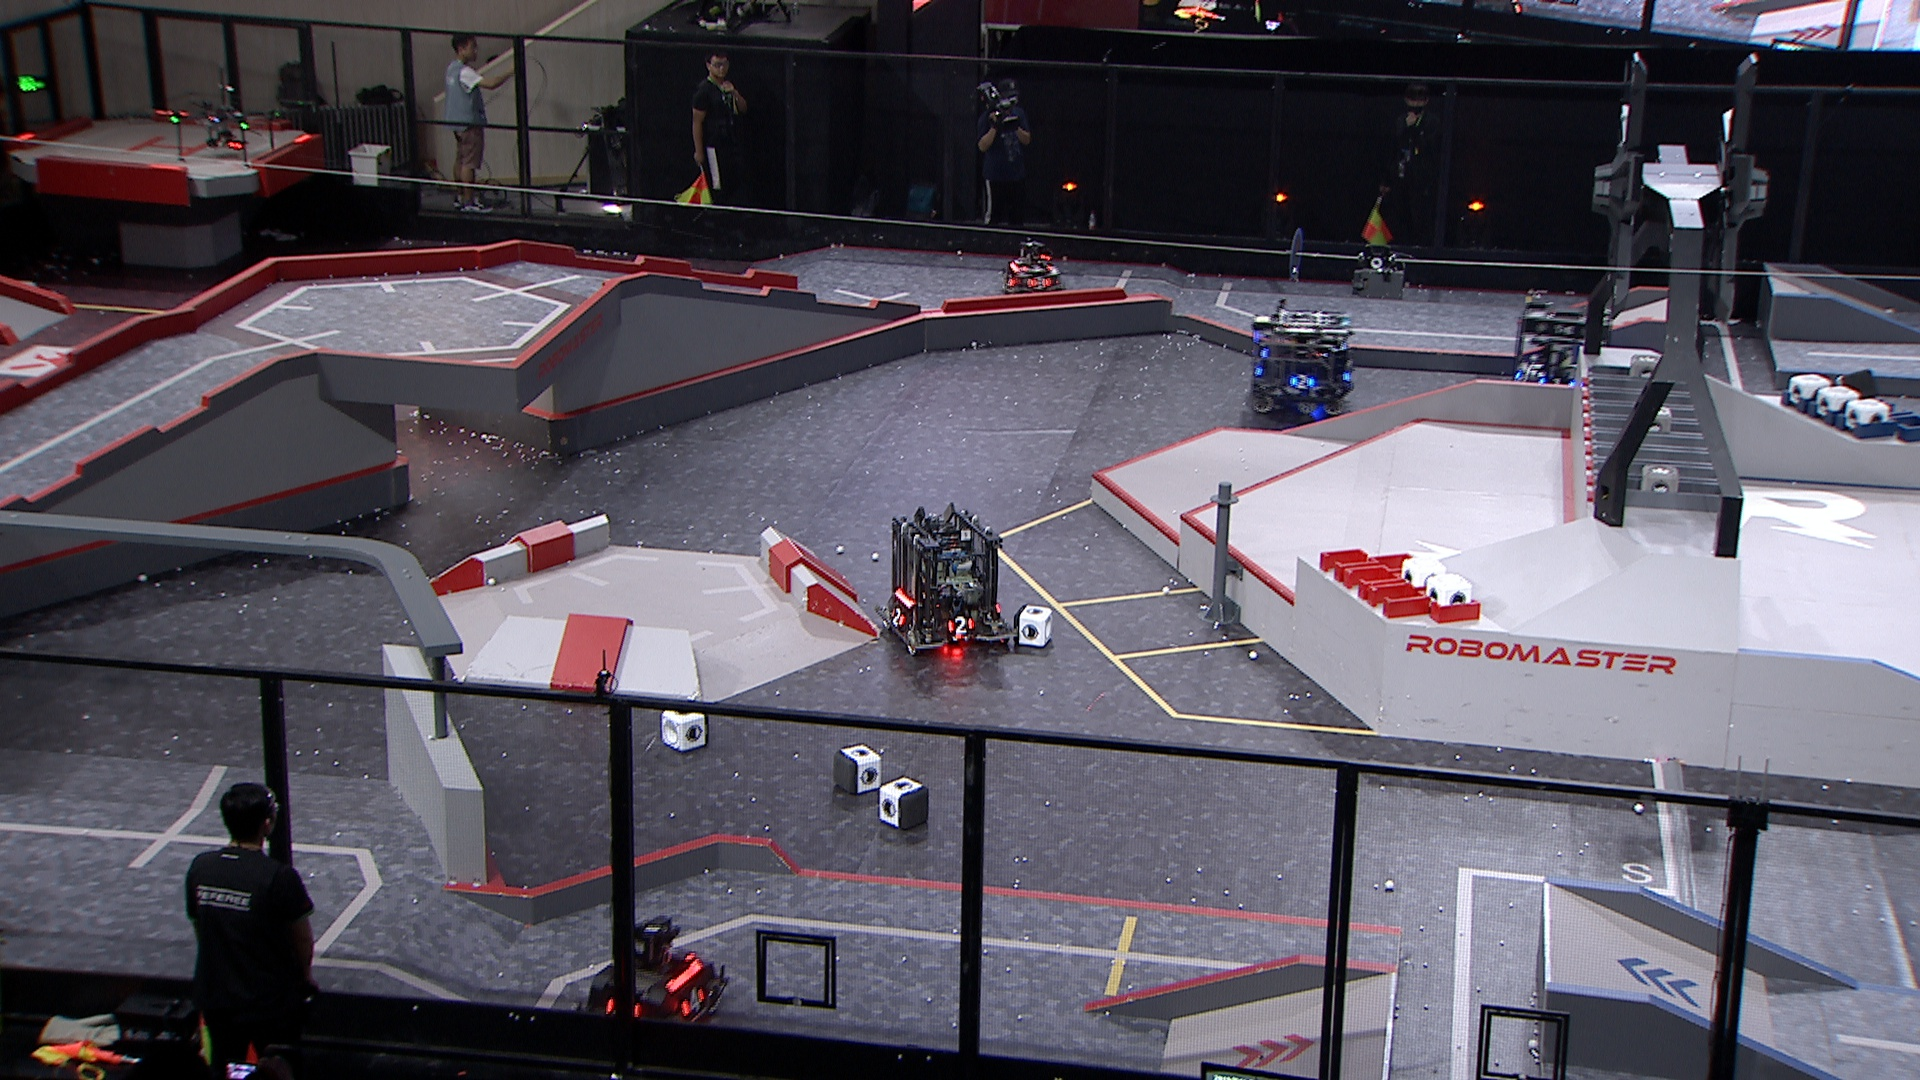armor: (679, 984, 709, 1015), (945, 616, 978, 636), (1290, 373, 1317, 392), (889, 604, 907, 628), (1027, 276, 1054, 291), (1538, 377, 1576, 386), (1005, 273, 1019, 290)
car: (873, 501, 1019, 655), (575, 915, 731, 1044), (1247, 301, 1356, 418), (1510, 301, 1615, 411), (1002, 240, 1067, 301)
